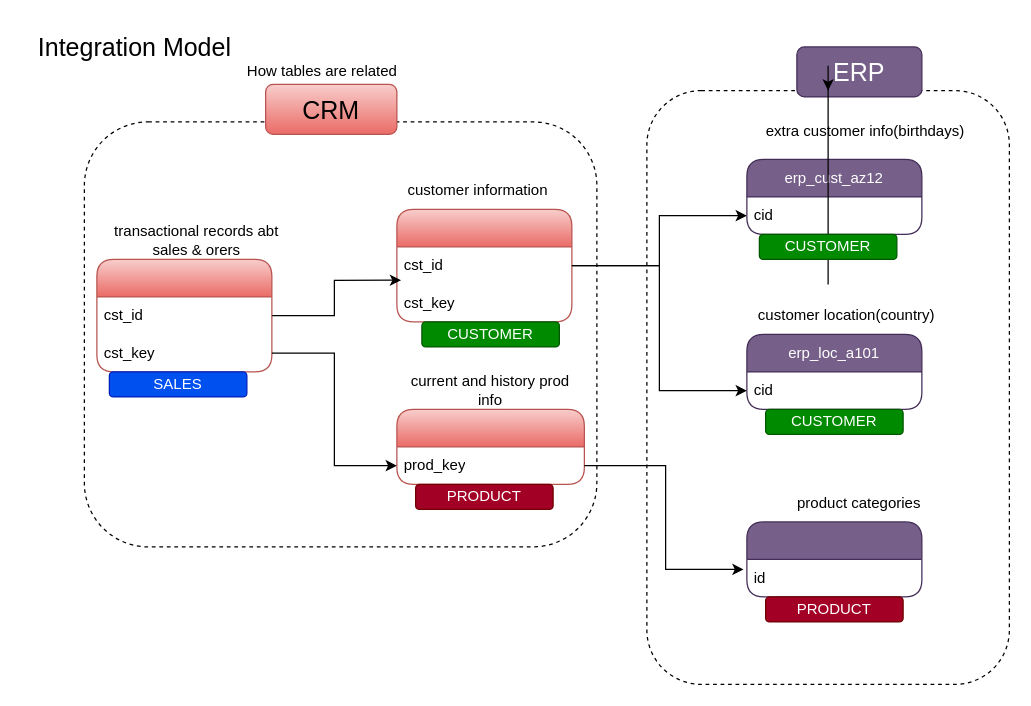
Image size: 1031x706. Some labels were removed from this diagram. The shapes that lost their labels are listed below. From the top down, each one's box as (x1, y1, x2, y2) in pixels, then its label:
(396, 208, 572, 322): crm_cust_info
(96, 258, 272, 372): crm_sales_details
(396, 408, 584, 484): crm_prod_info
(746, 521, 922, 597): erp_px_cat_g1v2
